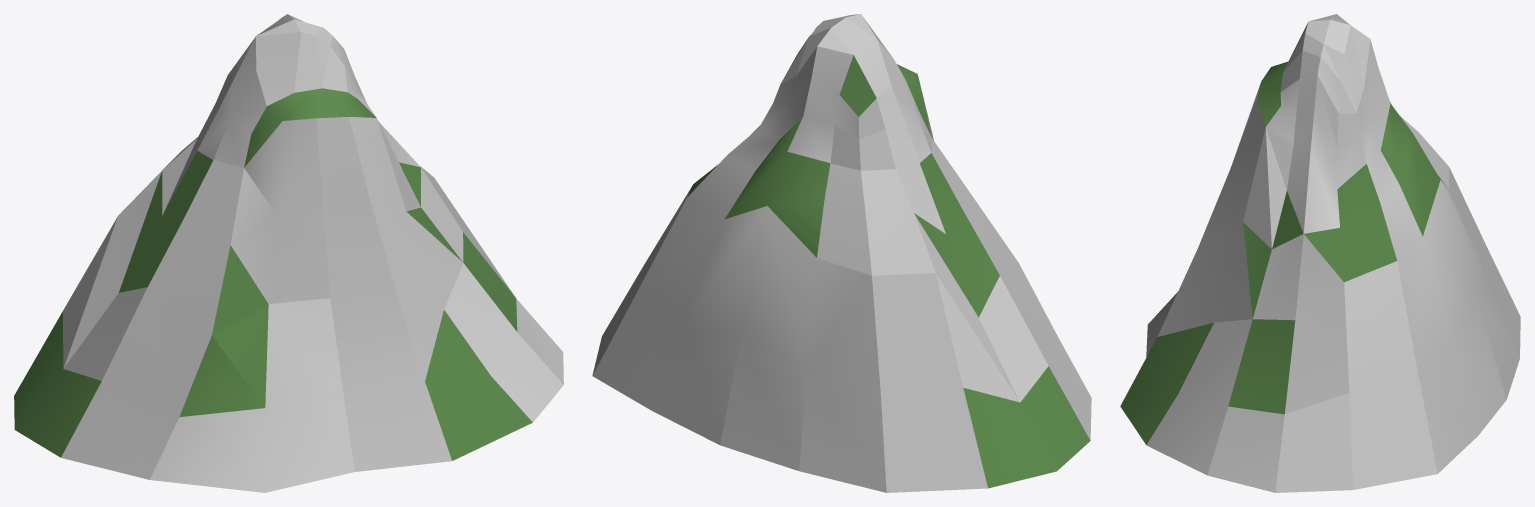
The model's file is mountain.obj.
3 views of the same model, side by side, from view 1: azimuth 30°, elevation 25°; view 2: azimuth 150°, elevation 25°; view 3: azimuth 270°, elevation 25° (orthographic). The views are drawn at different scales.
Parts seen in each view (by area): view 1: mountain_Mesh1_Model; view 2: mountain_Mesh1_Model; view 3: mountain_Mesh1_Model.
Part boxes in pixels (x1,y1,x2,y2): mountain_Mesh1_Model: [14, 14, 563, 492]; mountain_Mesh1_Model: [592, 14, 1091, 492]; mountain_Mesh1_Model: [1120, 14, 1520, 492].
Bounding box in the file's own units: 75.58 × 55.55 × 55.55.
